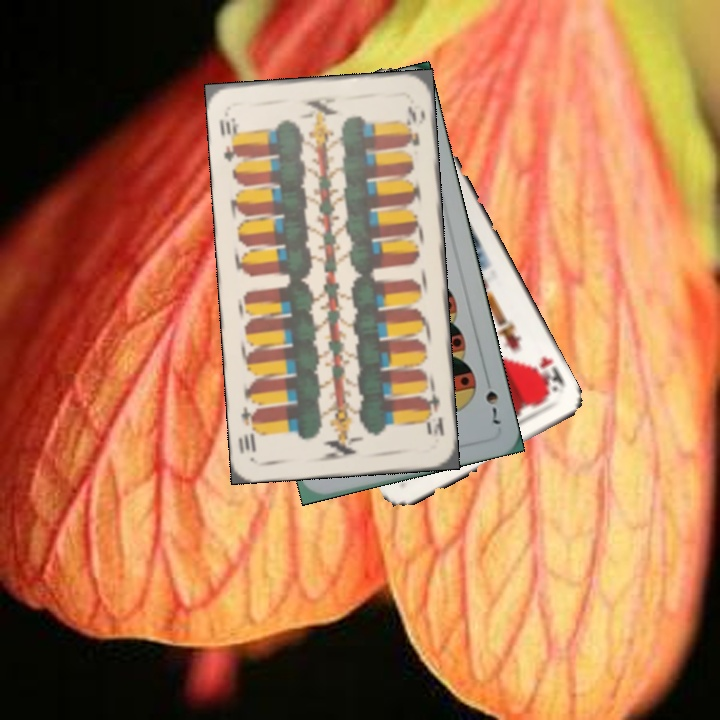E10: (419, 385, 447, 438), (215, 113, 243, 164)
HK: (529, 353, 568, 398)
S7: (481, 387, 504, 429)
